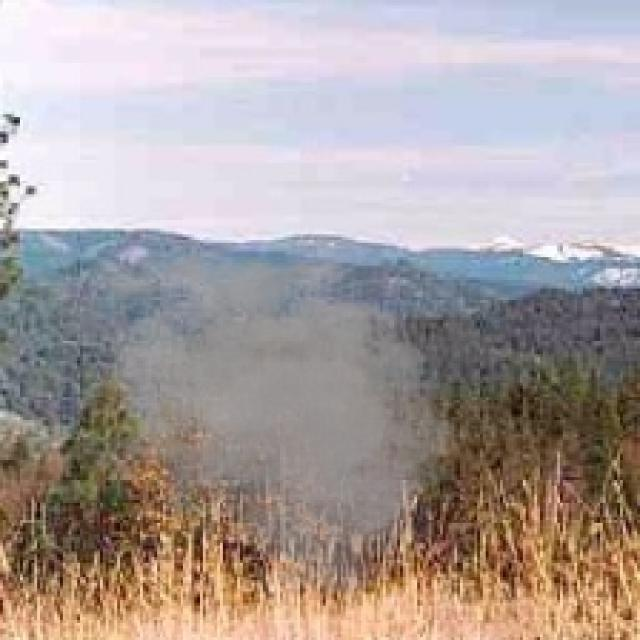Smoke: (69, 232, 478, 608)
